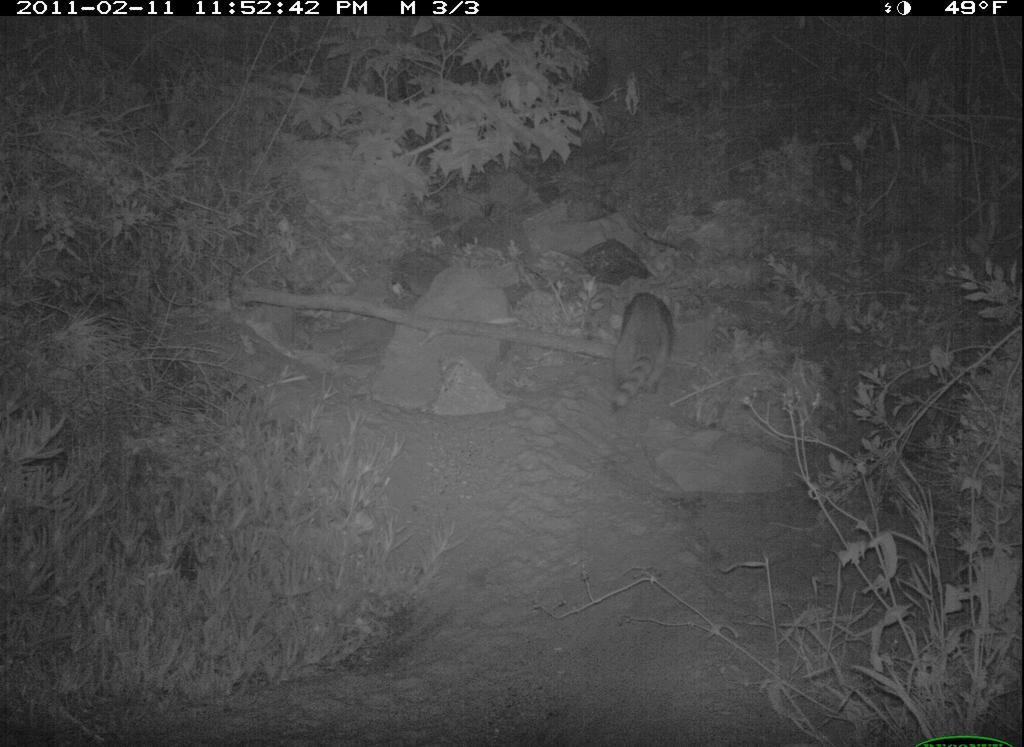raccoon: (601, 276, 689, 422)
